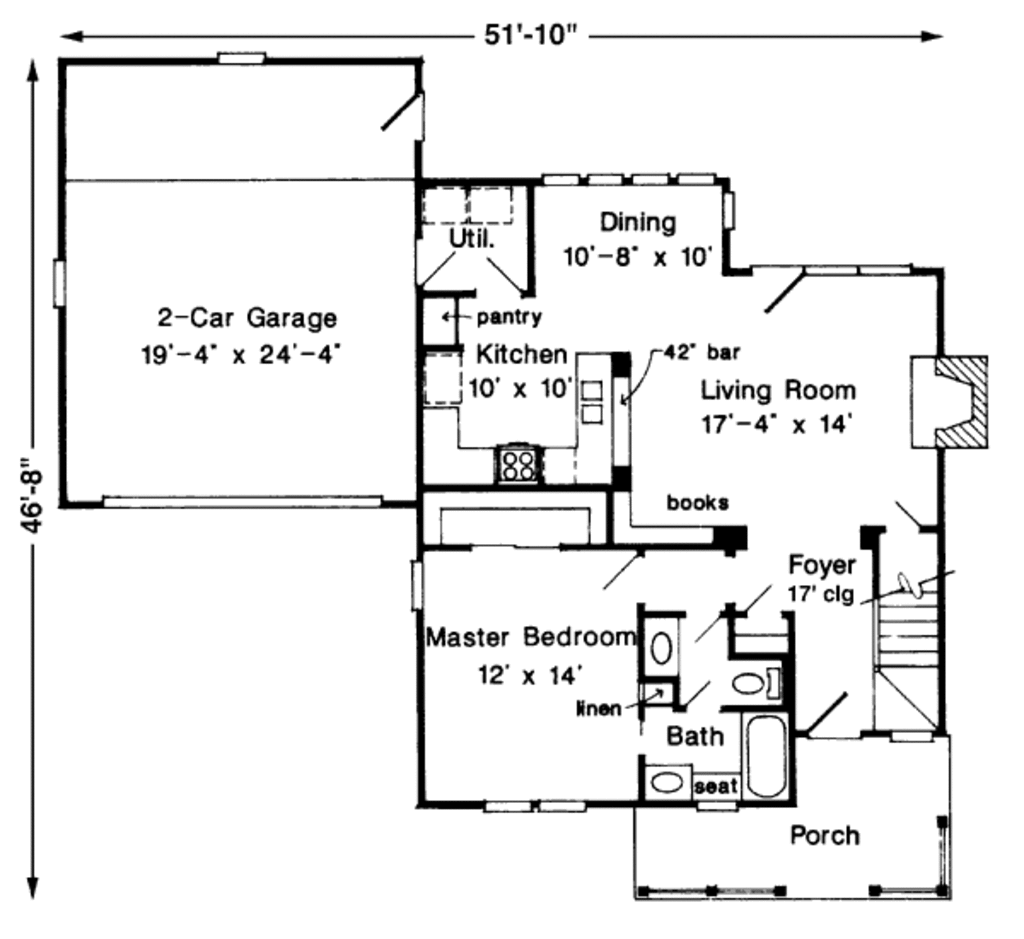door: (749, 256, 804, 325), (473, 259, 525, 303)
large_sink: (729, 661, 783, 711)
small_sink: (632, 754, 706, 814), (641, 609, 684, 683)
stairs: (875, 556, 951, 732)
tub: (738, 716, 791, 804)
twin_sink: (574, 380, 615, 433)
window: (638, 883, 789, 904), (542, 171, 717, 188), (480, 791, 596, 816), (44, 256, 91, 313), (802, 259, 929, 278), (215, 38, 277, 71)
